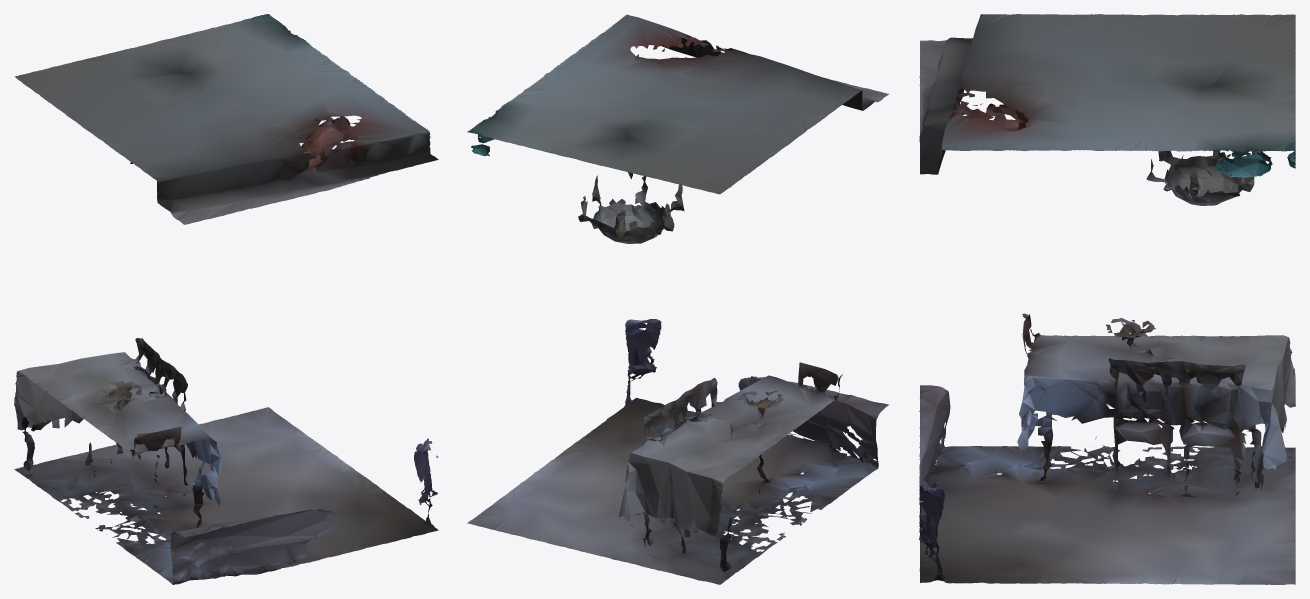
The model's file is coarse.glb.
3 views of the same model, side by side, from view 1: azimuth 30°, elevation 25°; view 2: azimuth 150°, elevation 25°; view 3: azimuth 270°, elevation 25° (orthographic). The views are drawn at different scales.
Size of the model in its own units: 2.09 by 3.1 by 2.43.
